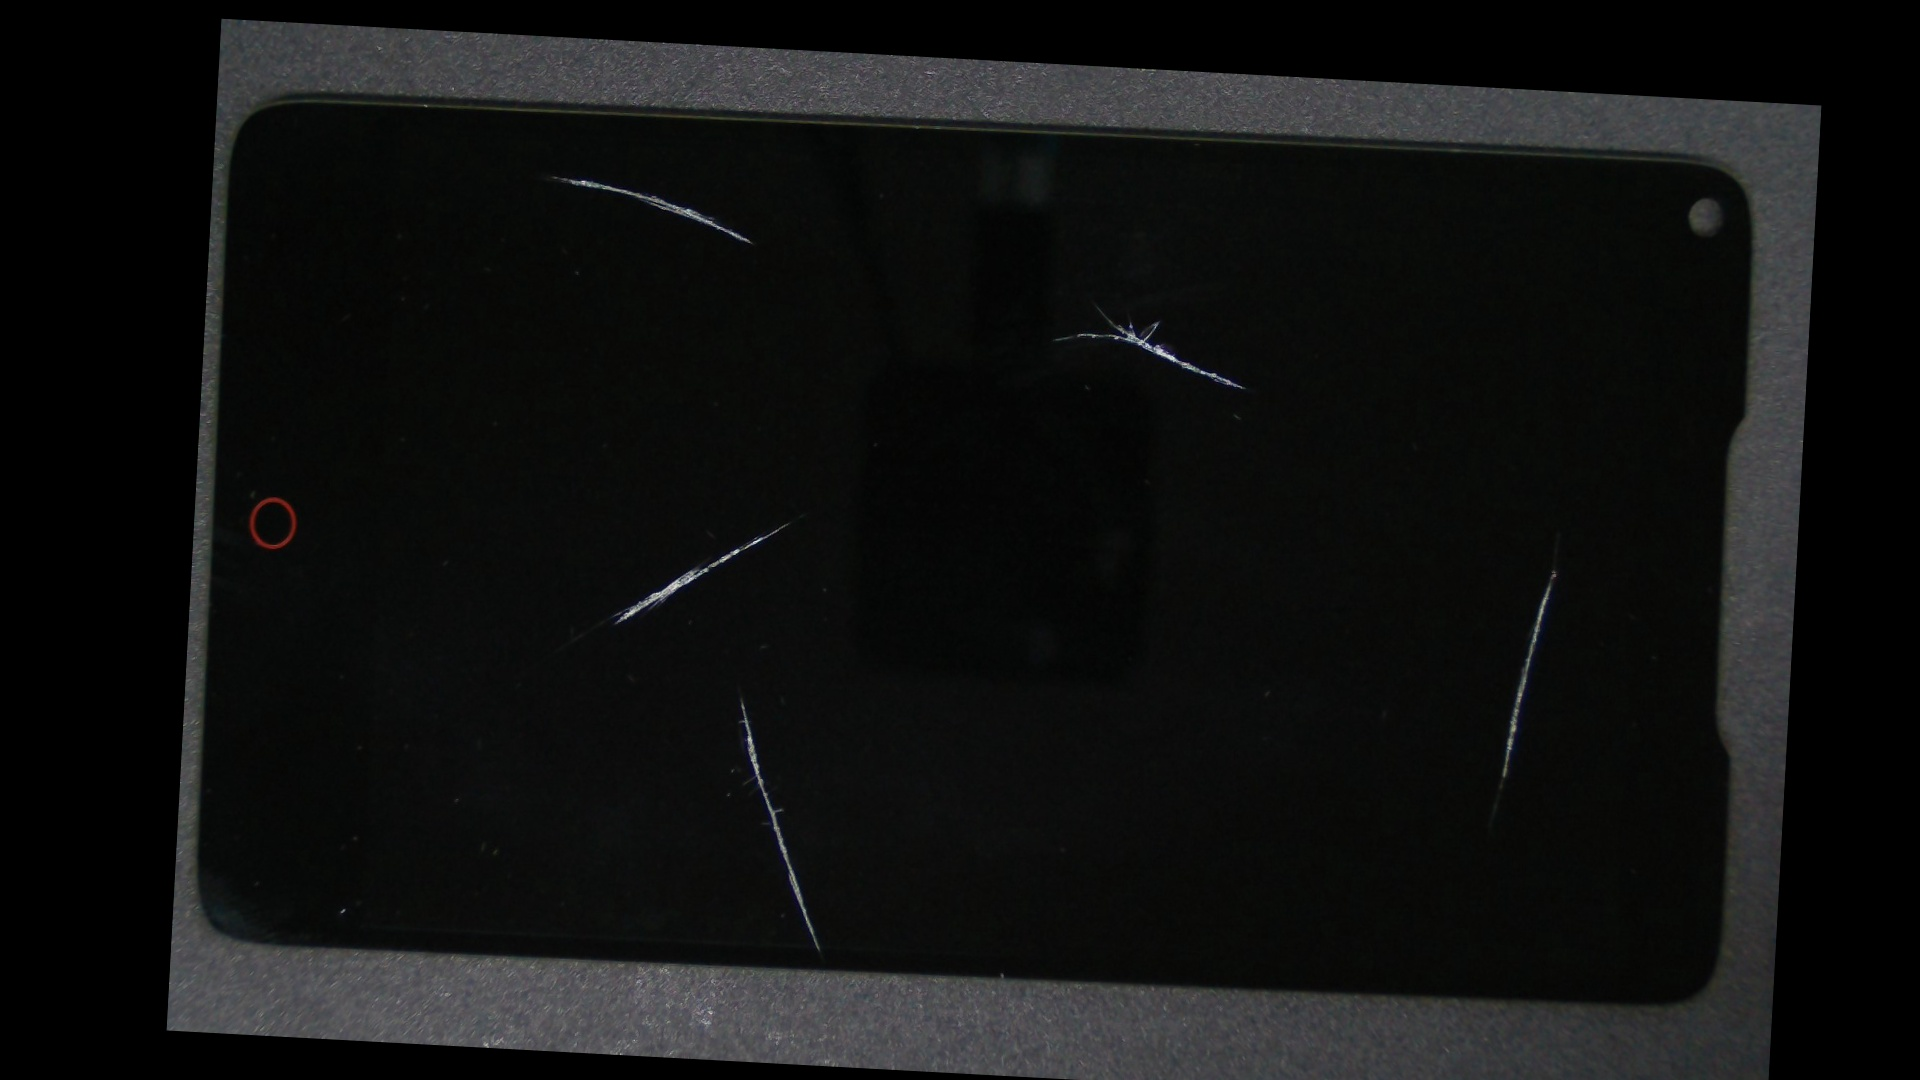oil: (861, 294, 1808, 822), (447, 357, 1038, 1038), (480, 270, 1096, 774), (644, 160, 1545, 448), (380, 96, 724, 253)
